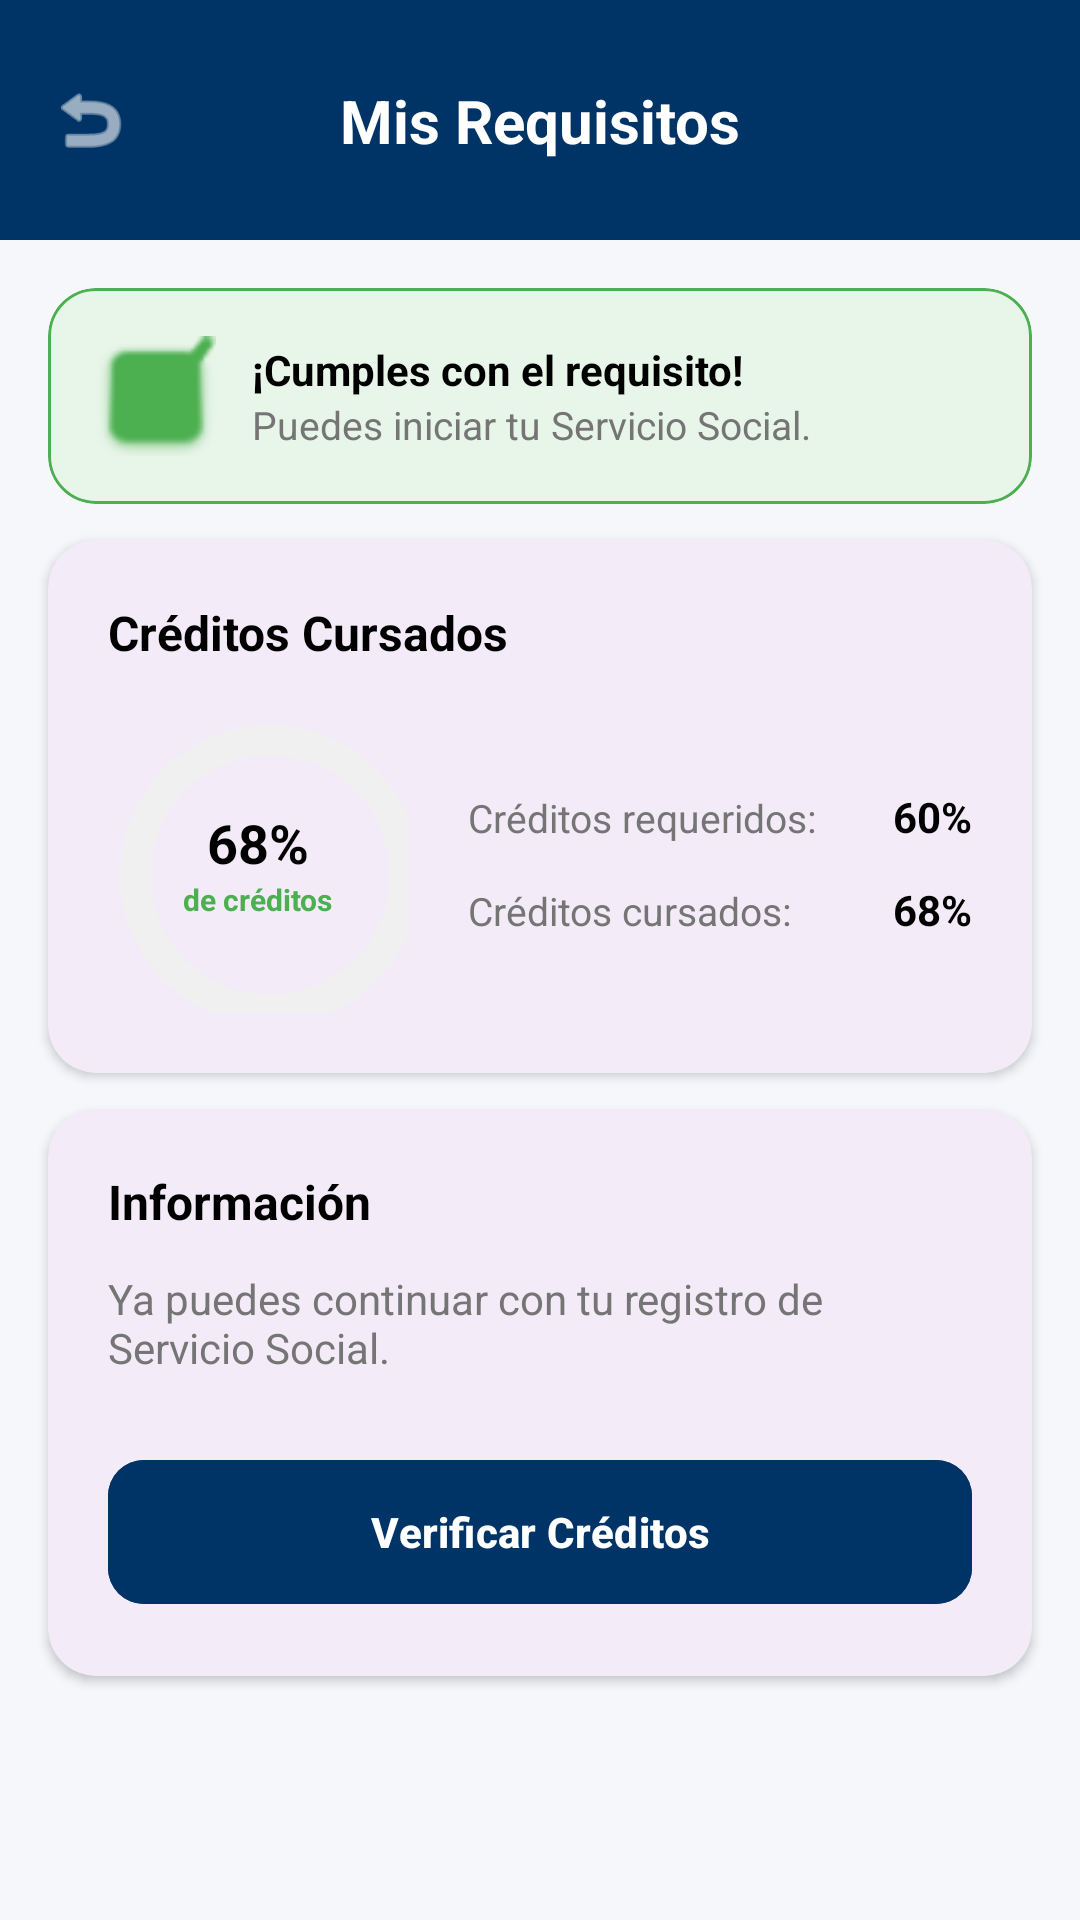

Screen size 1080w x 1920h. Icon name, then its center in pixels as (x,y):
revert: (91,120)
